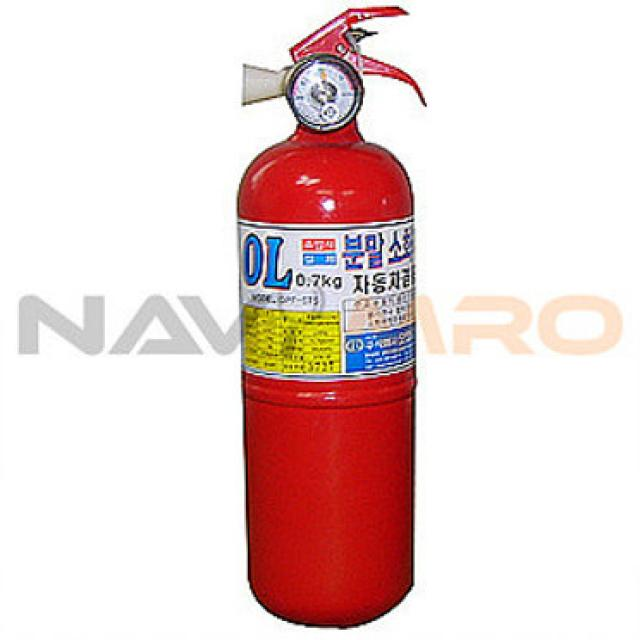pressure gauge: (288, 56, 363, 130)
